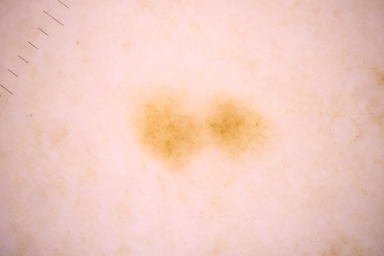nevus: (132, 100, 268, 172)
